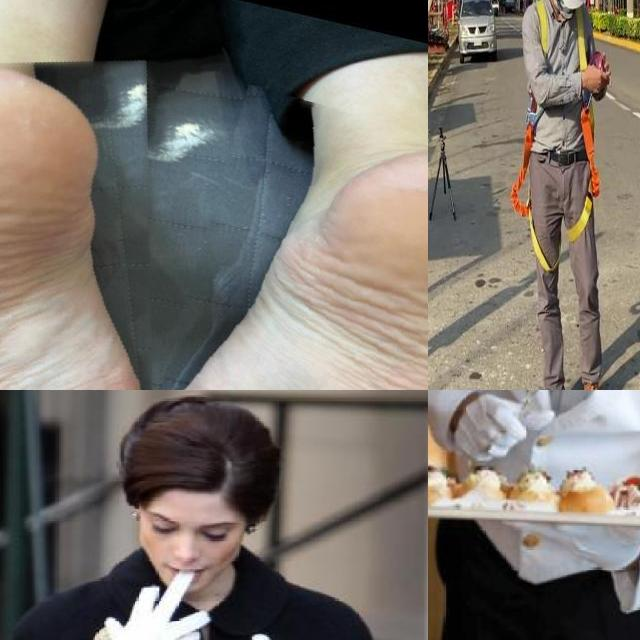Barefoots: (195, 151, 428, 390), (0, 55, 154, 390)
Harness: (511, 122, 555, 273), (567, 107, 601, 244)
No_Glasses: (147, 506, 232, 550)
face_nomask: (148, 492, 236, 598)
hand_glove: (85, 569, 199, 640), (502, 517, 640, 574), (452, 396, 560, 462)
head_nohelmet: (115, 402, 275, 509)
person: (0, 392, 405, 640)
